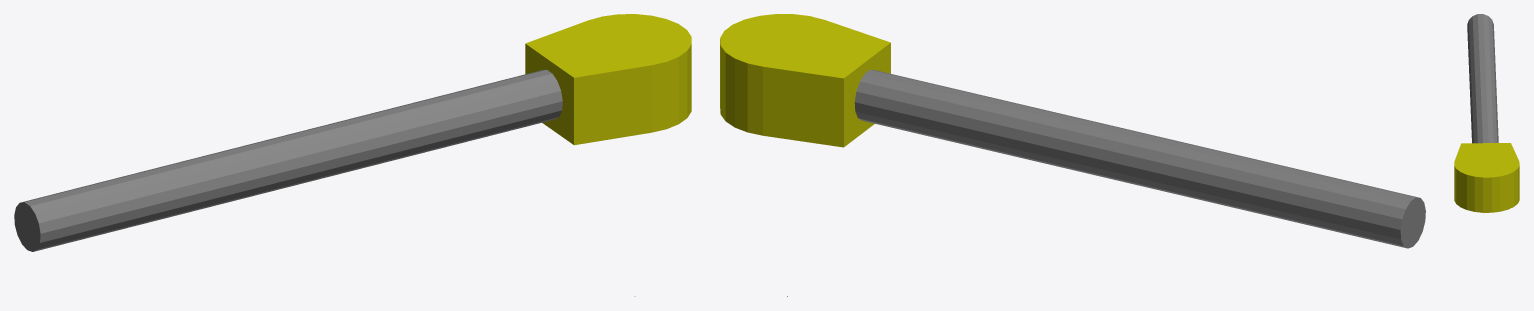
3 views of the same model, side by side, from view 1: azimuth 30°, elevation 25°; view 2: azimuth 150°, elevation 25°; view 3: azimuth 270°, elevation 25° (orthographic). The views are drawn at different scales.
Parts seen in each view (by area): view 1: node; view 2: node; view 3: node.
Part boxes in pixels (x1=…): node: x1=14, y1=14, x2=691, y2=296; node: x1=720, y1=14, x2=1425, y2=296; node: x1=1454, y1=14, x2=1519, y2=212.
Bounding box in the file's own units: 596 × 218 × 97.55.
